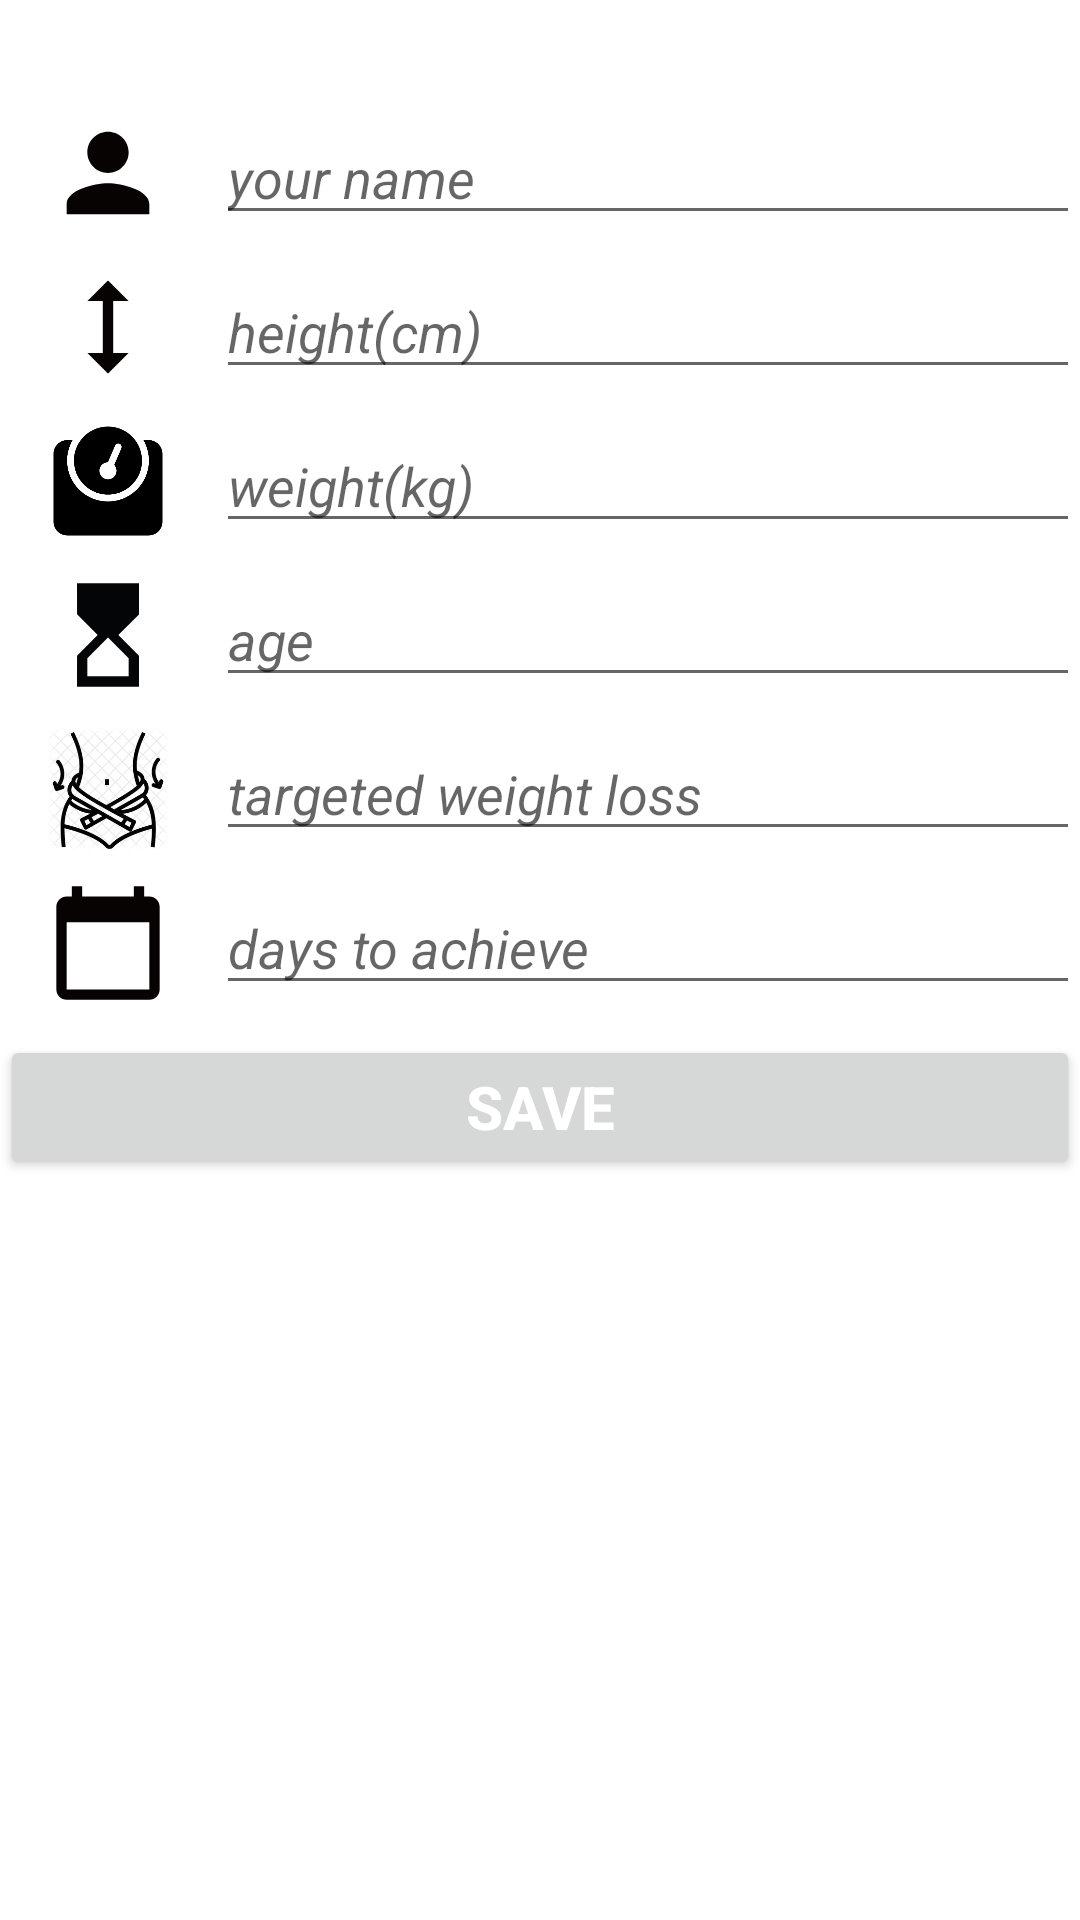

Icon bounding boxes for this 1080*1920 phone screenshot, format (x1, y1, x2, y2):
calendar today: (56, 886, 160, 1000)
hourglass top: (77, 583, 139, 687)
lose weight: (53, 732, 164, 849)
person: (66, 131, 150, 215)
